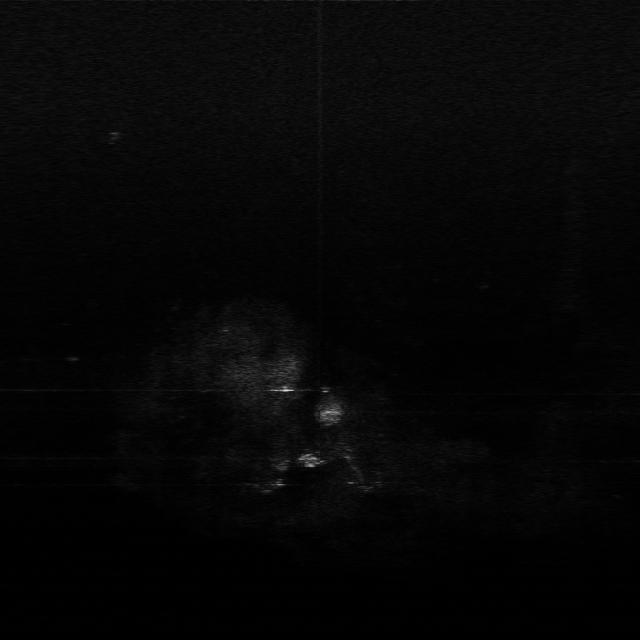rov: (294, 451, 327, 470)
